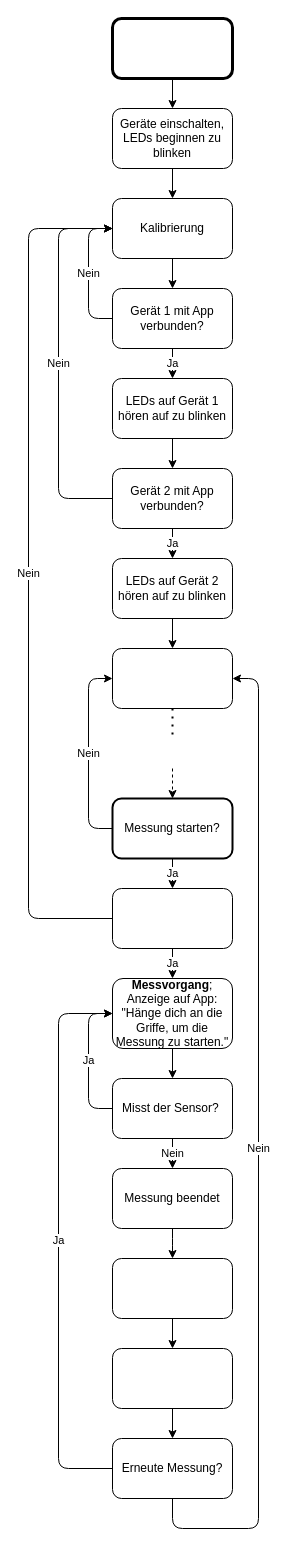
Some shapes in this 287 by 1554 pixel diagram are drawn without their labels. Here are the shapes that lost their labels. From the top down, the centre of each, then its label:
(x=172, y=48): START
(x=172, y=678): Wartemodus (Standby)
(x=172, y=918): Verbindung zu beiden Geräten vorhanden?
(x=172, y=1288): Ausgabe auf App: "Berechnungen werden vorgenommen."
(x=172, y=1378): Ausgabe der Werte auf App
